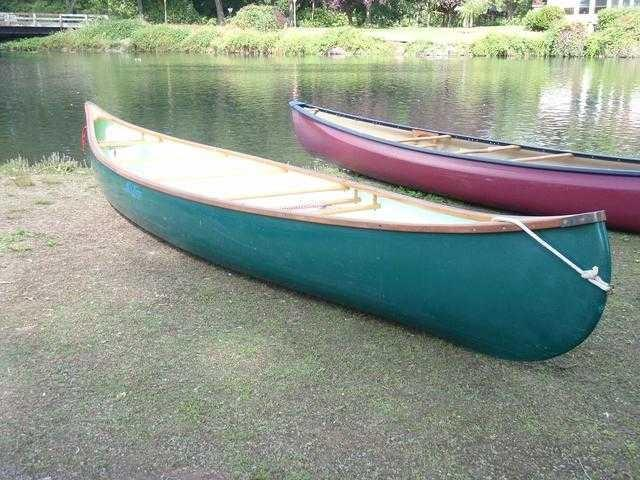kayak: (83, 101, 621, 365), (287, 100, 639, 229)
